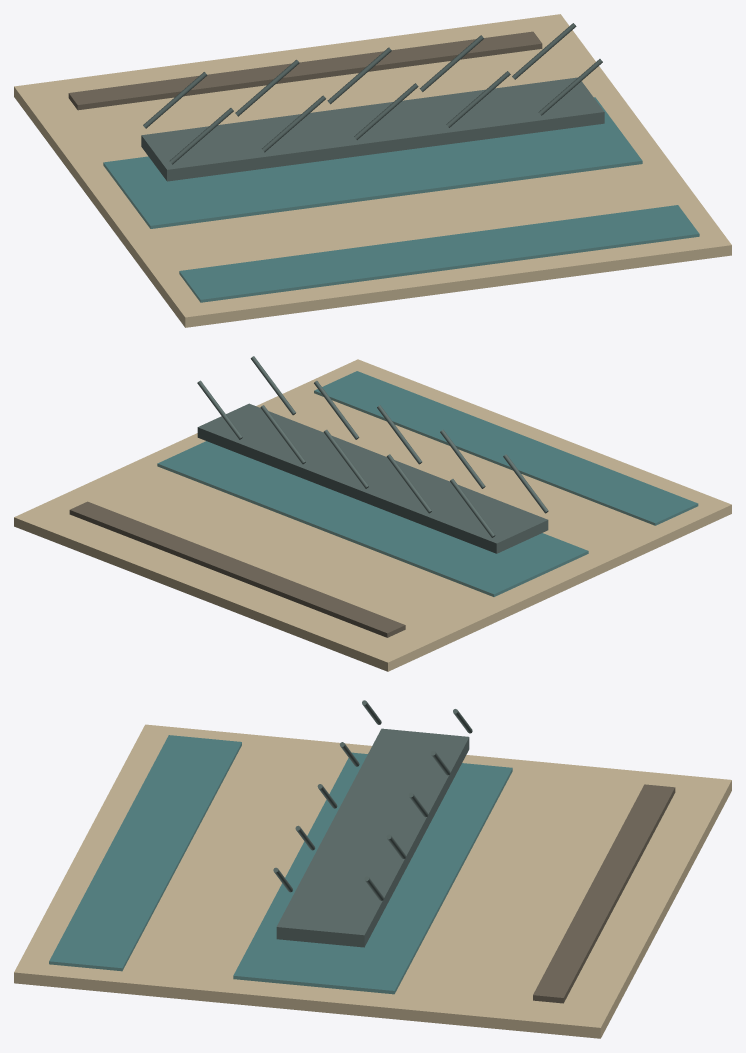
The model's file is model-medium.glb.
The picture shows the model from 3 angles, top to bottom: view 1: azimuth 30°, elevation 25°; view 2: azimuth 150°, elevation 25°; view 3: azimuth 270°, elevation 25°; orthographic projection. The views are drawn at different scales.
Parts seen in each view (by area): view 1: context_site_plinth, river_context, bridge_deck, context_water_edge, front_scale_strip; view 2: context_site_plinth, river_context, bridge_deck, context_water_edge, front_scale_strip; view 3: context_site_plinth, river_context, bridge_deck, context_water_edge, front_scale_strip.
Part boxes in pixels (x1,y1,x2,y2): context_site_plinth: (14,14,731,327); river_context: (103,97,642,228); bridge_deck: (141,77,604,181); context_water_edge: (179,205,699,302); front_scale_strip: (68,31,542,110); context_site_plinth: (14,359,731,671); river_context: (157,441,588,596); bridge_deck: (197,403,548,553); context_water_edge: (314,371,698,525); front_scale_strip: (69,501,405,637); context_site_plinth: (14,724,731,1038); river_context: (233,752,512,994); bridge_deck: (276,728,469,947); context_water_edge: (49,735,241,971); front_scale_strip: (533,784,675,1003).
Size of the model in its own units: 9.55 by 1.65 by 9.55.
